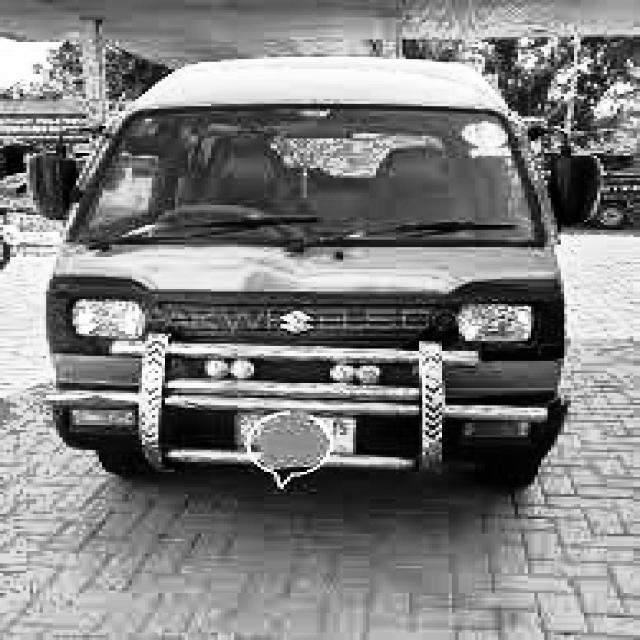LCV: (39, 47, 594, 507)
